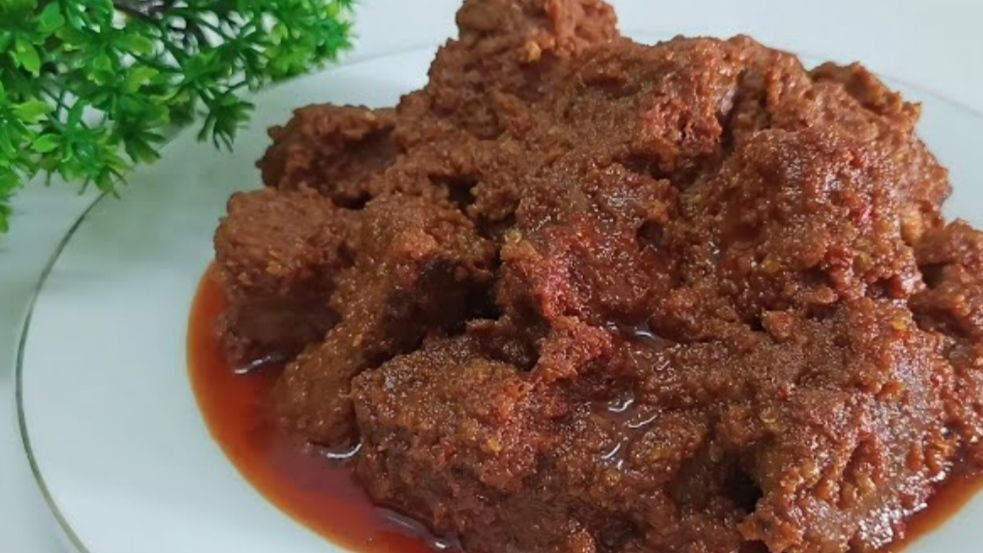rendang: (251, 74, 974, 531)
